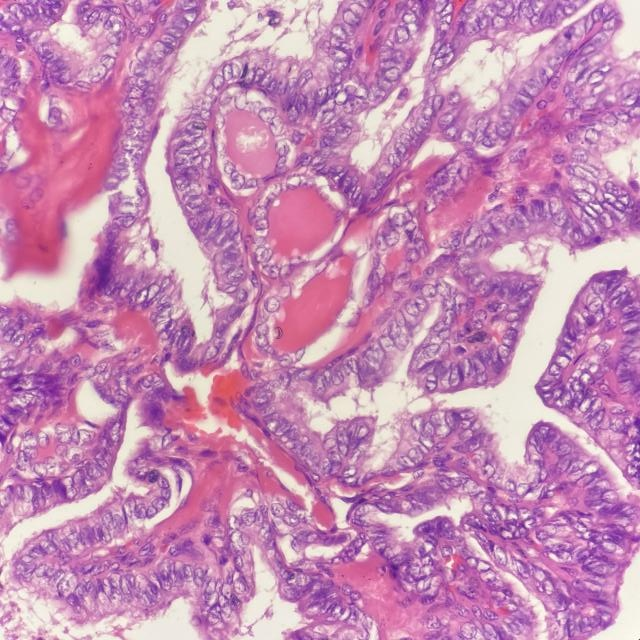TC: (350, 414, 378, 451), (414, 340, 444, 368), (256, 290, 285, 317), (417, 276, 443, 306), (379, 225, 404, 253), (373, 460, 397, 488), (141, 280, 165, 308), (455, 356, 477, 385), (330, 358, 348, 393), (457, 476, 482, 500), (418, 371, 439, 399), (354, 417, 374, 445), (268, 499, 288, 527), (312, 371, 330, 402), (430, 422, 456, 443), (237, 506, 261, 528), (373, 334, 397, 355), (272, 136, 296, 157), (392, 306, 409, 332), (405, 447, 426, 468), (319, 433, 339, 455), (233, 284, 251, 308), (477, 464, 498, 484), (408, 412, 424, 436), (136, 541, 160, 557), (135, 499, 150, 524), (354, 503, 373, 522), (152, 471, 172, 489), (148, 499, 173, 513), (225, 528, 242, 544)
